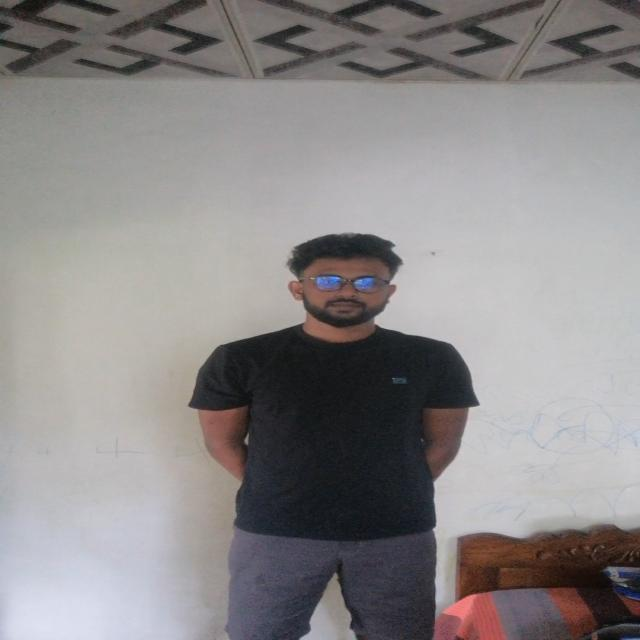Person: (188, 221, 474, 640)
